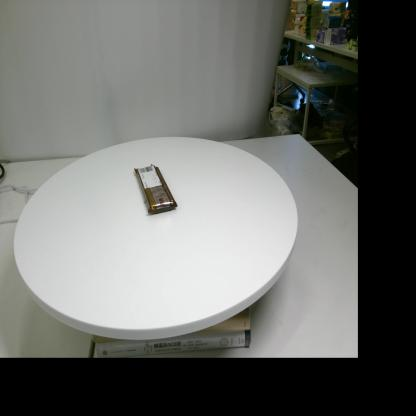Chocolate: (134, 164, 178, 214)
